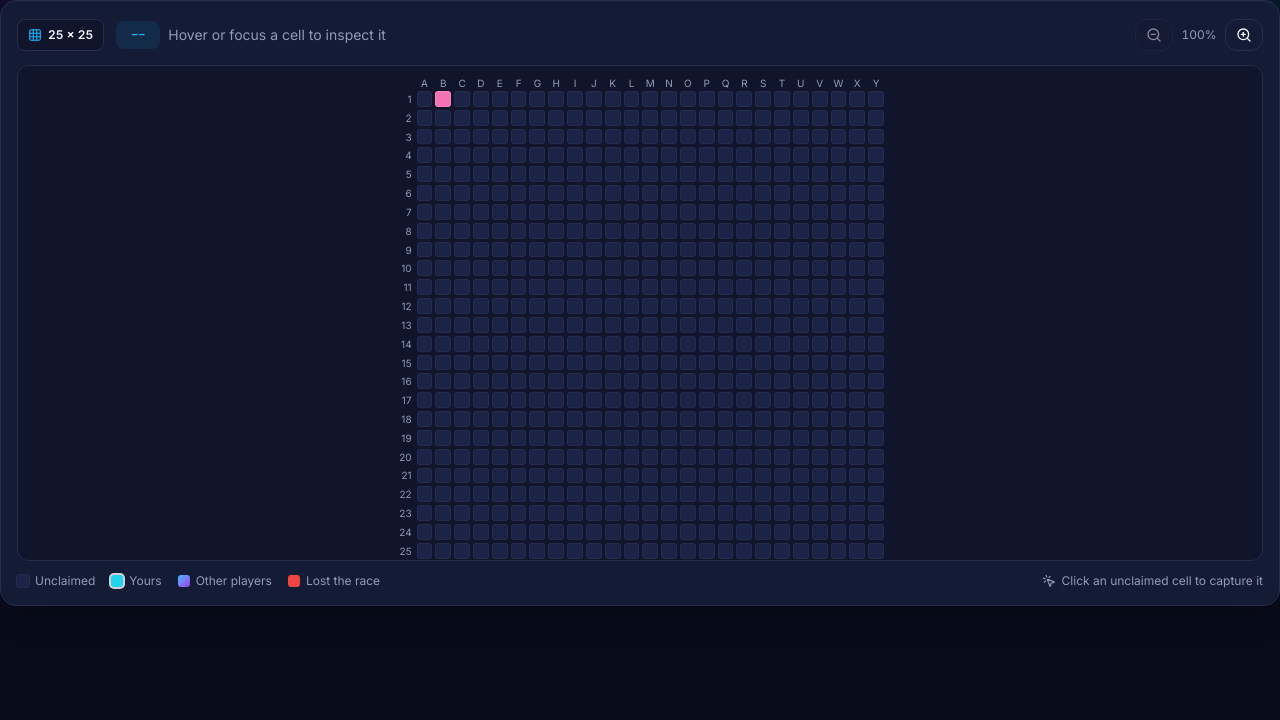
Test: GridBoard › shows coordinates and owner when a cell is hovered
The width and height of the screenshot is (1280, 720).
Check: the text "Hover or focus a cell to inspect it" is shown, box left=168, top=25, right=386, bottom=45
Hover over the button named "B1, owned by Trinity": (443, 99) left=435, top=91, right=451, bottom=107
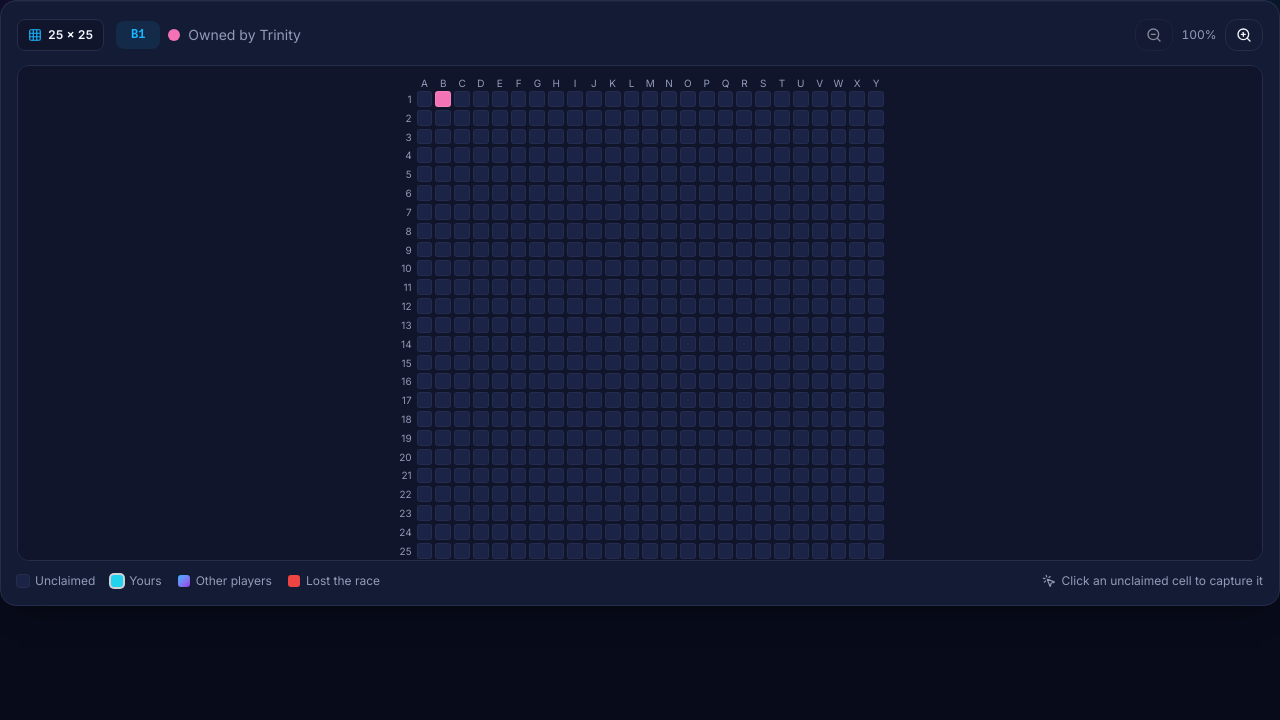
Check: the text "B1" is shown, box left=116, top=21, right=160, bottom=49
Check: the text "Owned by Trinity" is shown, box left=188, top=25, right=301, bottom=45
Hover over the button named "A1, unclaimed": (424, 99) left=417, top=91, right=432, bottom=107
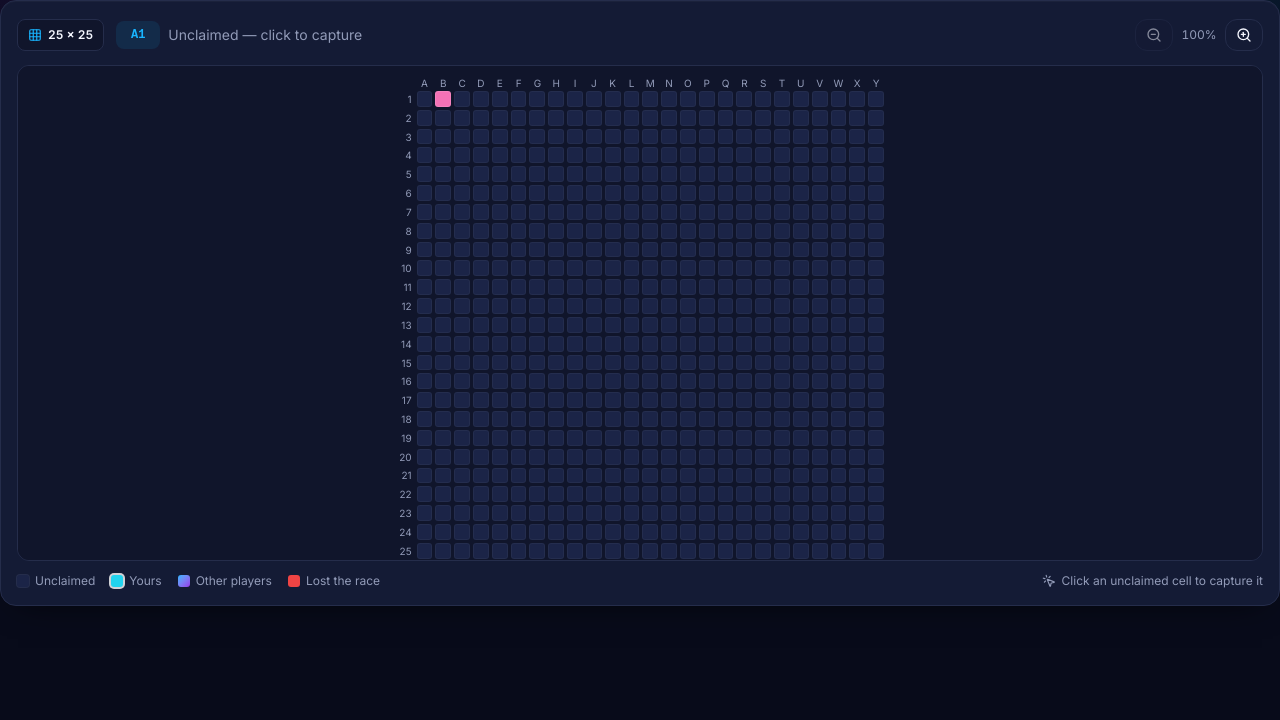
Check: the text "Unclaimed — click to capture" is shown, box left=168, top=25, right=362, bottom=45
